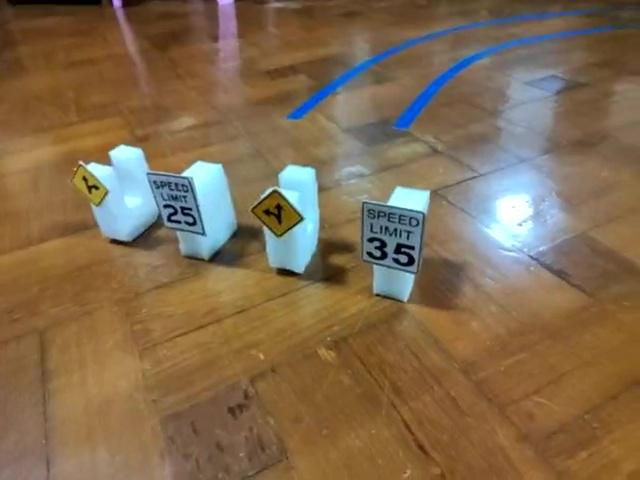Speed Limit 25: (144, 171, 206, 232)
Speed Limit 35: (357, 200, 427, 274)
Straight Or Left Sign: (250, 187, 307, 241)
Straight Or Right Sign: (68, 160, 108, 206)
